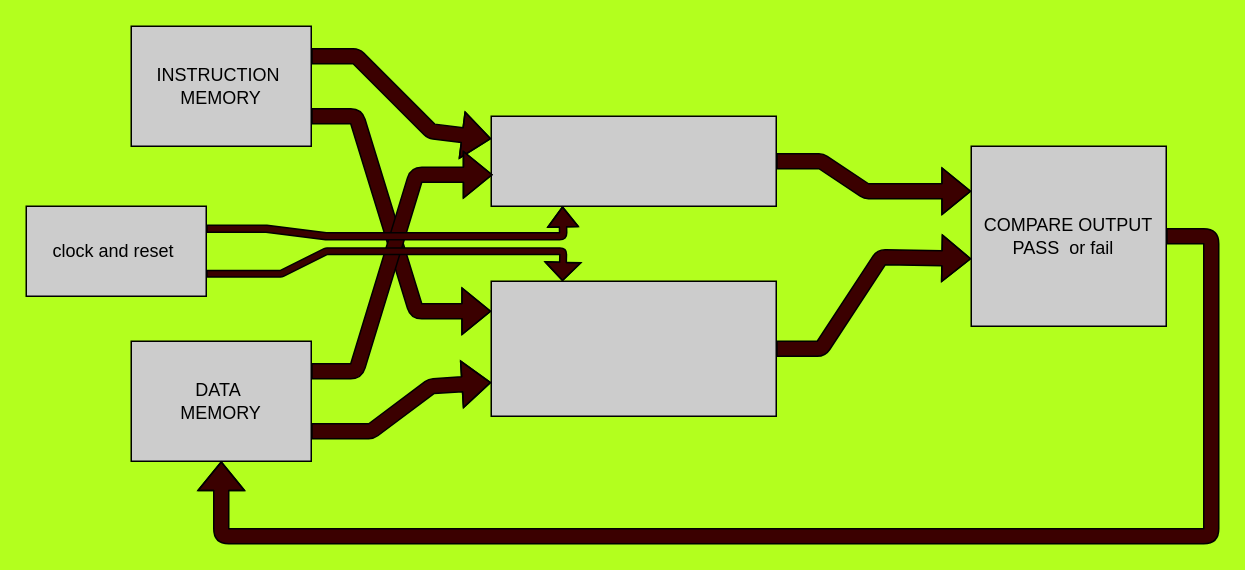
Some shapes in this 1245 by 570 pixel diagram are drawn without their labels. Each missing label, with the centre of its shape:
"RV64 GOLDEN MODEL" goes at (633,160).
"RV64 RTL MODEL" goes at (633,348).
